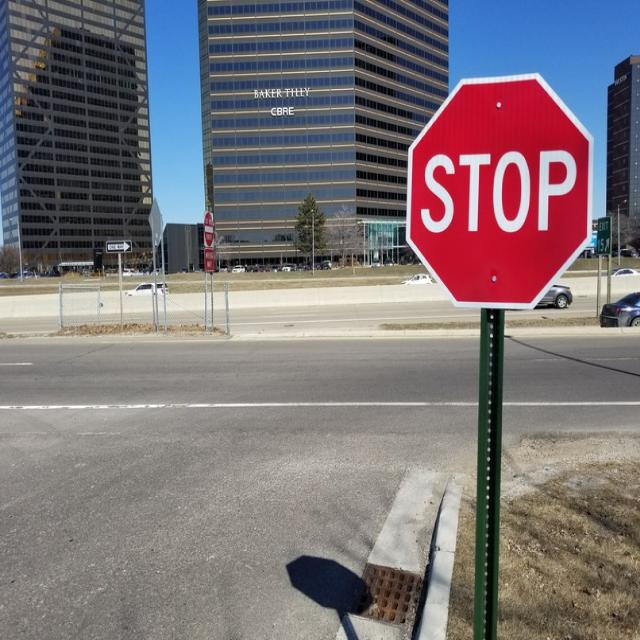Panneau-Stop: (396, 70, 589, 319)
